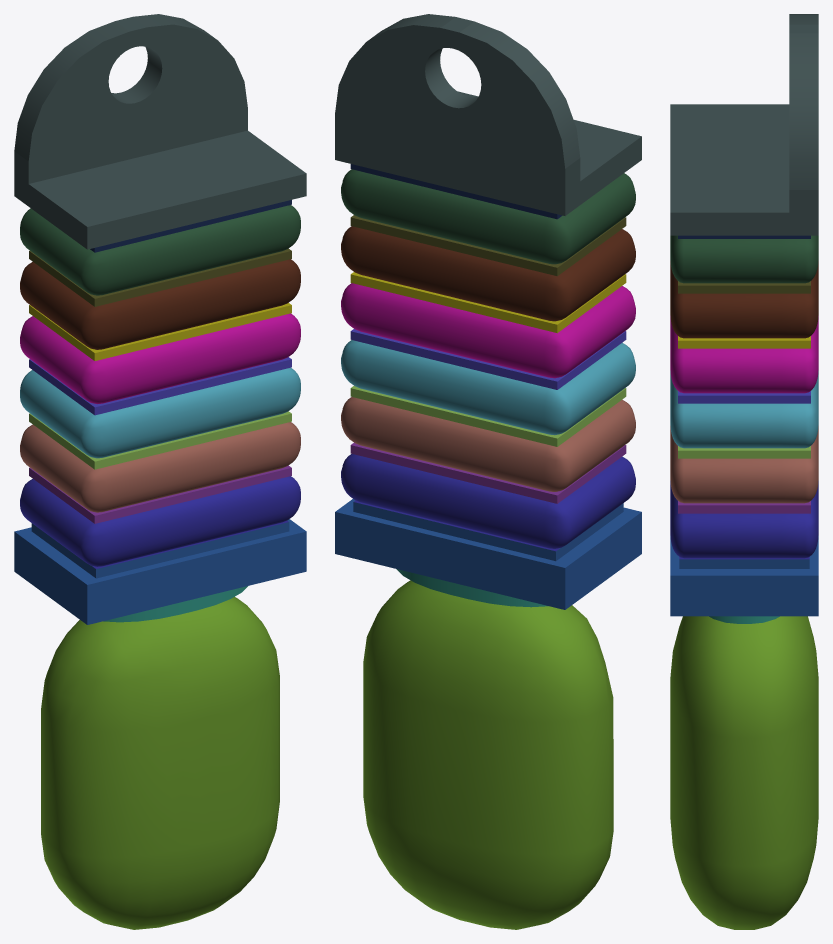
The model's file is Misc_05.fbx.
3 renders of one model, left to right at view 1: azimuth 30°, elevation 25°; view 2: azimuth 150°, elevation 25°; view 3: azimuth 270°, elevation 25°, orthographic. The views are drawn at different scales.
Parts seen in each view (by area): view 1: SetA_Misc_05; view 2: SetA_Misc_05; view 3: SetA_Misc_05.
Part boxes in pixels (x1,y1,x2,y2): SetA_Misc_05: (14, 14, 306, 929); SetA_Misc_05: (335, 14, 641, 929); SetA_Misc_05: (670, 14, 818, 929).
Size of the model in its own units: 0.0837 by 0.3181 by 0.0483.
